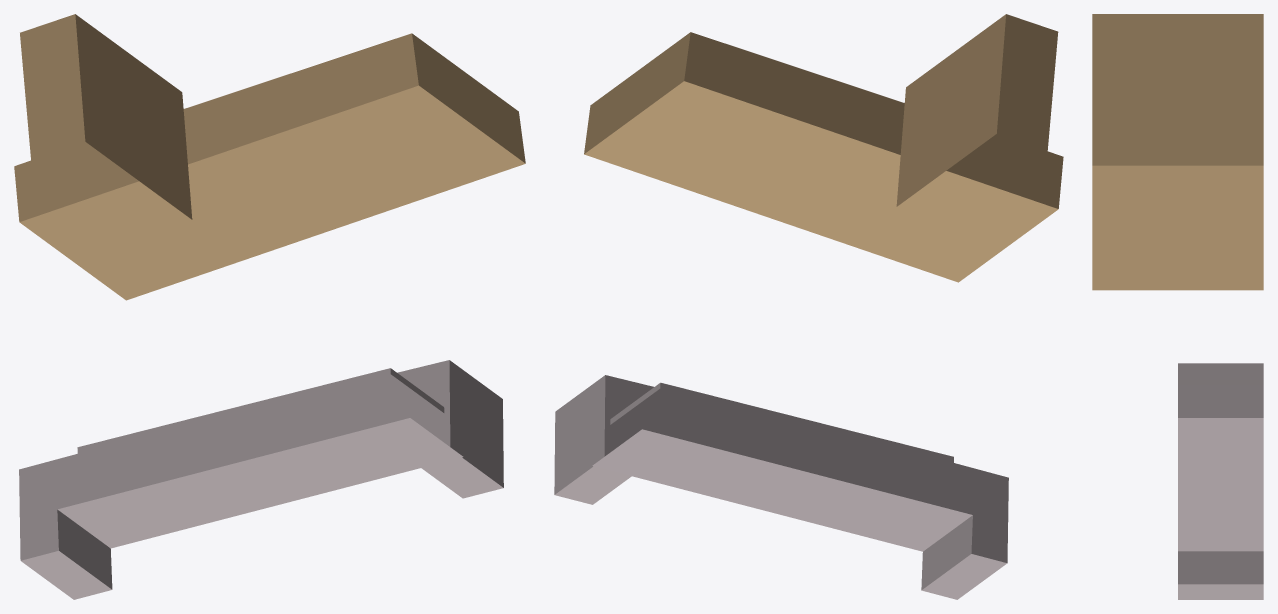
3 views of the same model, side by side, from view 1: azimuth 30°, elevation 25°; view 2: azimuth 150°, elevation 25°; view 3: azimuth 270°, elevation 25° (orthographic). The views are drawn at different scales.
Parts seen in each view (by area): view 1: 0_3_2_3_1_0_1; view 2: 0_3_2_3_1_0_1; view 3: 0_3_2_3_1_0_1.
Boxes of the visible parts, x1,y1,x2,y2 form: 0_3_2_3_1_0_1: [14, 14, 525, 599]; 0_3_2_3_1_0_1: [554, 14, 1063, 599]; 0_3_2_3_1_0_1: [1092, 14, 1263, 599].
Bounding box in the file's own units: 56.53 × 66.06 × 24.
